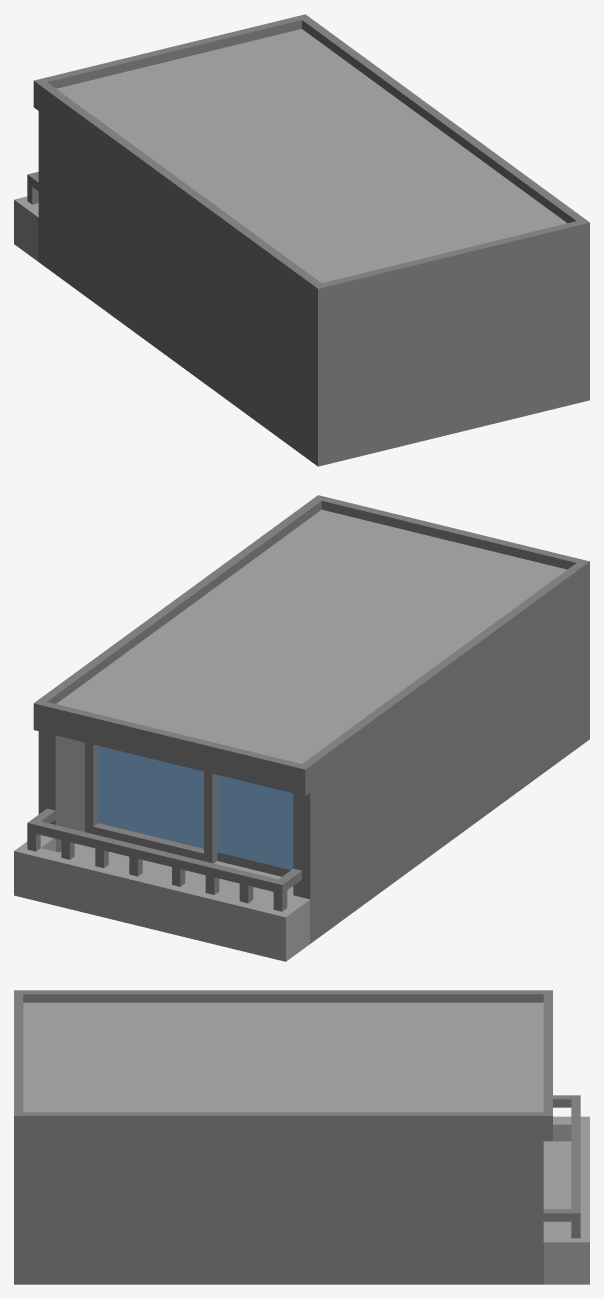
File: obj_story02.fbx
3 renders of one model, top to bottom at view 1: azimuth 30°, elevation 25°; view 2: azimuth 150°, elevation 25°; view 3: azimuth 270°, elevation 25°, orthographic. The views are drawn at different scales.
Parts seen in each view (by area): view 1: obj_story02; view 2: obj_story02; view 3: obj_story02.
Part boxes in pixels (x1,y1,x2,y2): obj_story02: [14, 14, 589, 466]; obj_story02: [14, 495, 589, 961]; obj_story02: [14, 990, 589, 1284].
Size of the model in its own units: 3.2 by 6.2 by 2.
1 material, 1 textured.
